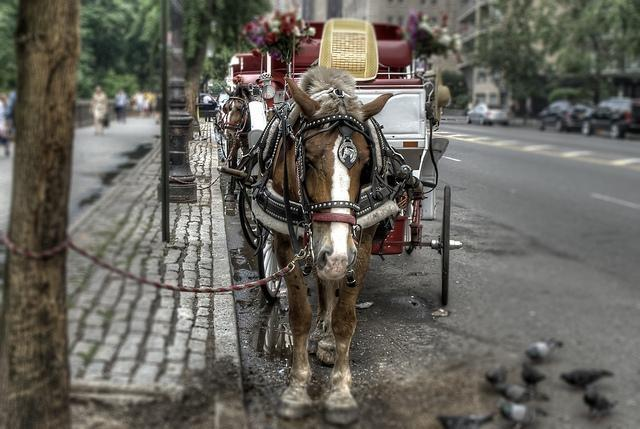car: (577, 98, 637, 138), (534, 96, 598, 132), (466, 103, 508, 126), (200, 93, 229, 117)
